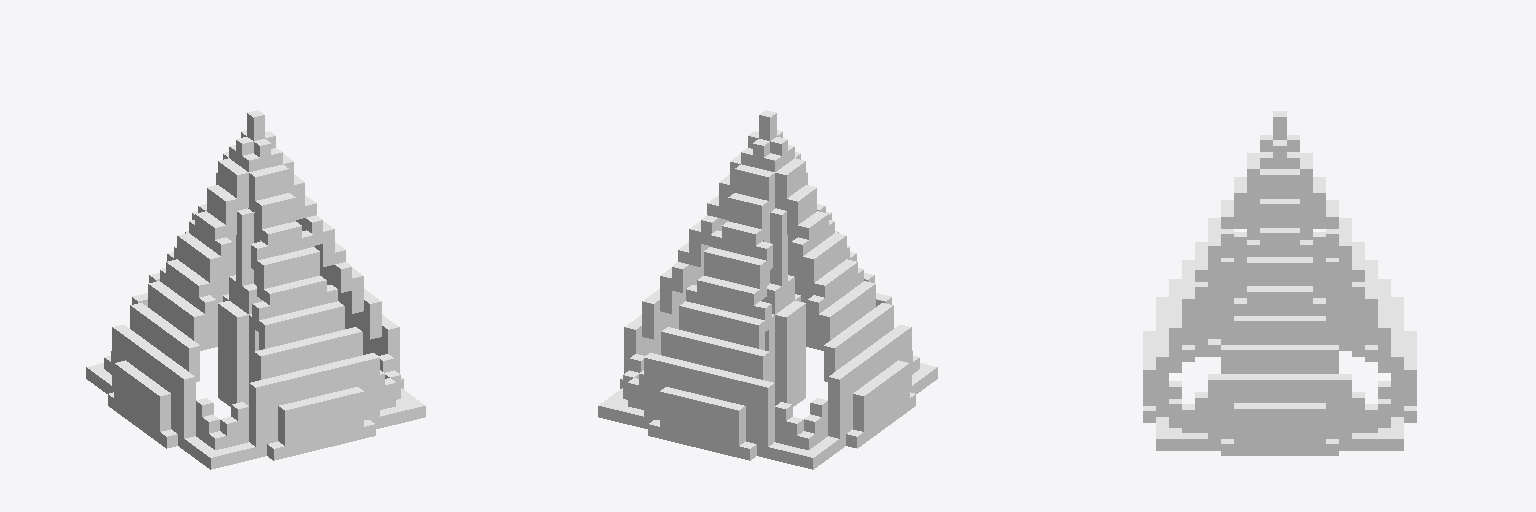
Rendered from poizon.obj.
3 views of the same model, side by side, from view 1: azimuth 30°, elevation 25°; view 2: azimuth 150°, elevation 25°; view 3: azimuth 270°, elevation 25° (orthographic).
Parts seen in each view (by area): view 1: object 1; view 2: object 1; view 3: object 1.
Boxes of the visible parts, <box> form: object 1: <box>86,110,425,469</box>; object 1: <box>598,110,937,469</box>; object 1: <box>1143,111,1416,455</box>.
Bounding box in the file's own units: 2.1 × 2.4 × 2.1.